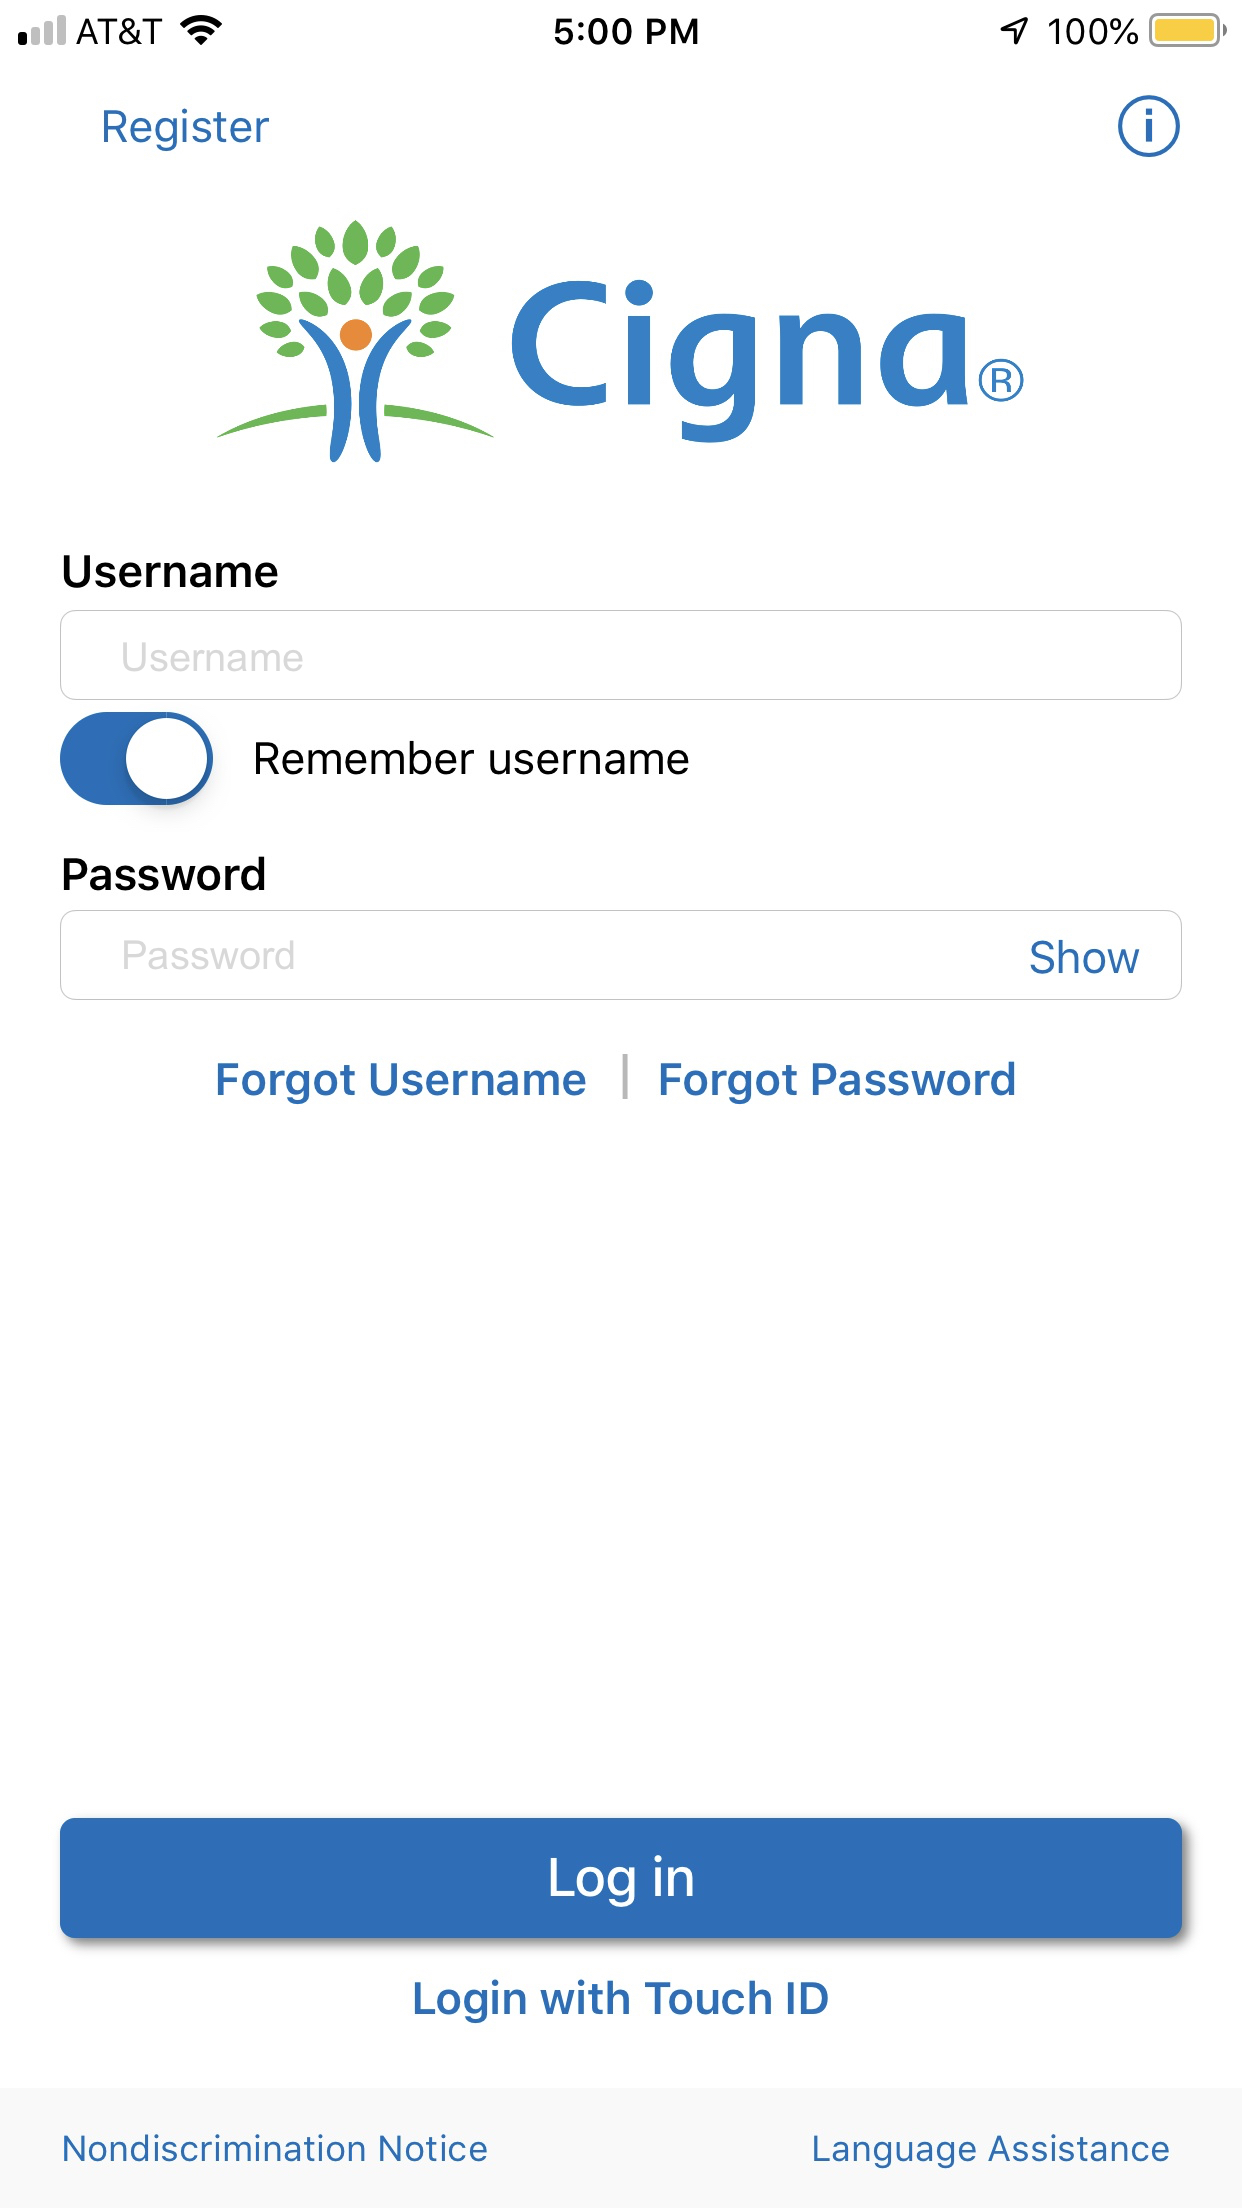EditText: (61, 910, 1183, 1001), (61, 610, 1183, 701)
Icon: (1118, 96, 1181, 159)
Image: (218, 218, 496, 464)
Switch: (61, 713, 214, 807)
Text: (510, 279, 1024, 444), (416, 1977, 830, 2025), (253, 739, 688, 783), (218, 1062, 587, 1106), (660, 1062, 1015, 1106), (813, 2134, 1171, 2169), (64, 2134, 488, 2163), (105, 108, 271, 153), (64, 855, 265, 892), (64, 555, 279, 588), (123, 641, 303, 673), (124, 940, 296, 972), (1030, 940, 1140, 975)
TextButton: (61, 1818, 1183, 1940)
UpperTaskBar: (2, 2, 1242, 49)
